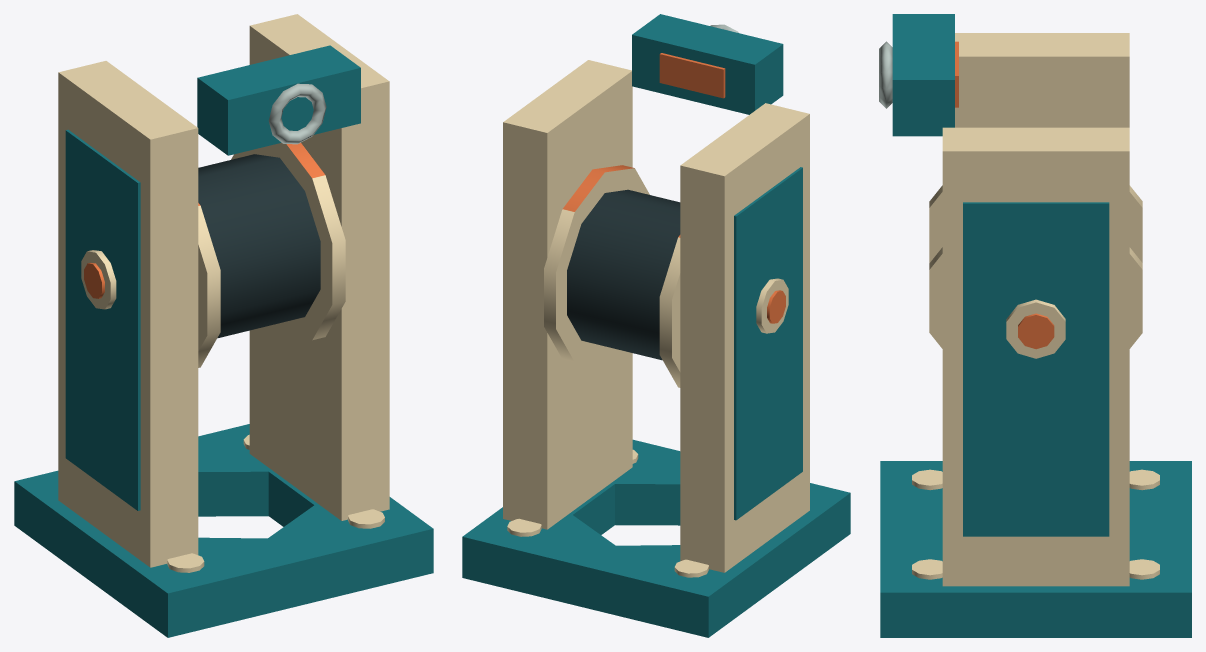
The model's file is winch-lod-2.glb.
The picture shows the model from 3 angles, left to right: view 1: azimuth 30°, elevation 25°; view 2: azimuth 150°, elevation 25°; view 3: azimuth 270°, elevation 25°; orthographic projection. The views are drawn at different scales.
Parts seen in each view (by area): view 1: voxys_mechanism_static, voxys_winch_drum; view 2: voxys_mechanism_static, voxys_winch_drum; view 3: voxys_mechanism_static, voxys_winch_drum.
Boxes of the visible parts, x1=… form: voxys_mechanism_static: x1=14, y1=14, x2=433, y2=637; voxys_winch_drum: x1=198, y1=142, x2=345, y2=367; voxys_mechanism_static: x1=462, y1=14, x2=850, y2=637; voxys_winch_drum: x1=544, y1=165, x2=680, y2=387; voxys_mechanism_static: x1=879, y1=14, x2=1191, y2=637; voxys_winch_drum: x1=929, y1=185, x2=1142, y2=348.
Size of the model in its own units: 1 by 1.87 by 1.
